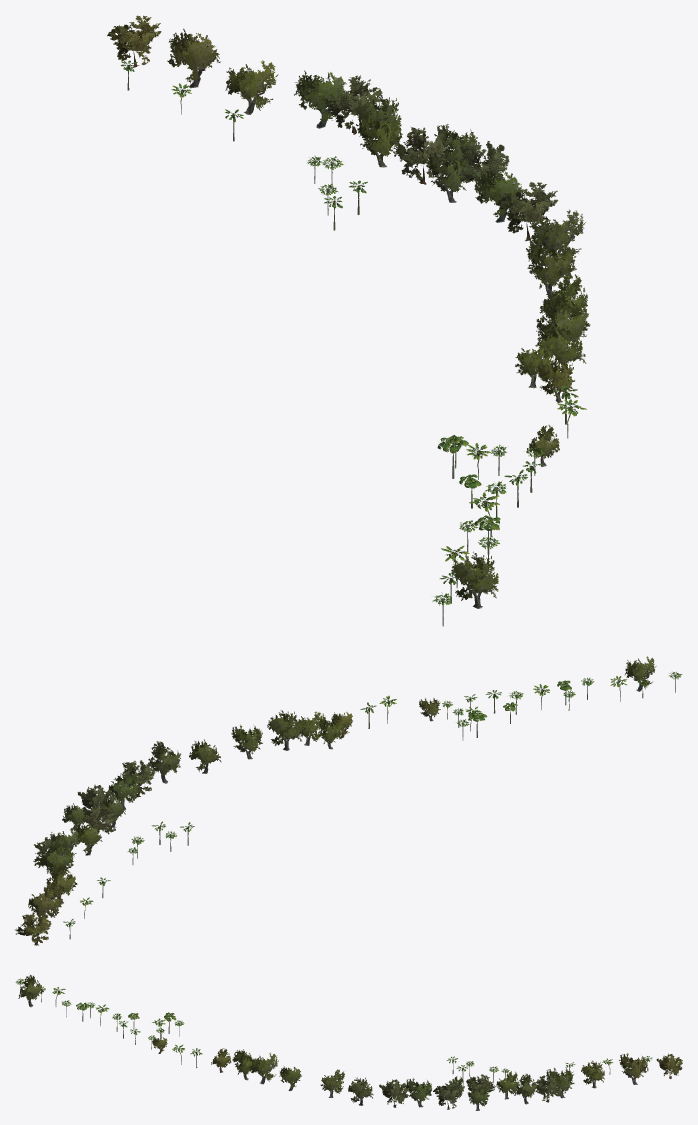
3 views of the same model, one above another, from view 1: azimuth 30°, elevation 25°; view 2: azimuth 150°, elevation 25°; view 3: azimuth 270°, elevation 25° (orthographic). The views are drawn at different scales.
Visible parts, largest first — view 1: island_tree_01 street foliage, jacaranda_tree street foliage, Sands promenade palm fronds and bark, island_tree_01 park bark; view 2: island_tree_01 street foliage, jacaranda_tree street foliage, Sands promenade palm fronds and bark, island_tree_01 park bark; view 3: island_tree_01 street foliage, jacaranda_tree street foliage, Sands promenade palm fronds and bark, island_tree_01 park bark.
Part boxes in pixels (x1,y1,x2,y2): island_tree_01 street foliage: [167, 28, 590, 600]; jacaranda_tree street foliage: [107, 15, 558, 233]; Sands promenade palm fronds and bark: [121, 60, 586, 626]; island_tree_01 park bark: [189, 56, 577, 608]; island_tree_01 street foliage: [28, 656, 656, 917]; jacaranda_tree street foliage: [15, 760, 154, 942]; Sands promenade palm fronds and bark: [63, 671, 682, 939]; island_tree_01 park bark: [40, 671, 650, 924]; island_tree_01 street foliage: [18, 975, 647, 1106]; jacaranda_tree street foliage: [379, 1053, 682, 1108]; Sands promenade palm fronds and bark: [15, 978, 652, 1083]; island_tree_01 park bark: [21, 992, 642, 1110].
Bounding box in the file's own units: 168 × 20.4 × 386.
Materials: 5 (5 with a texture image).
